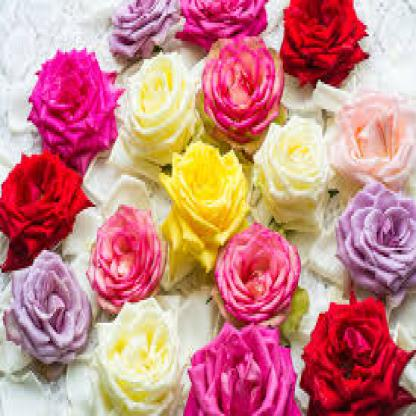Rose-Mawar: (3, 1, 416, 415)
